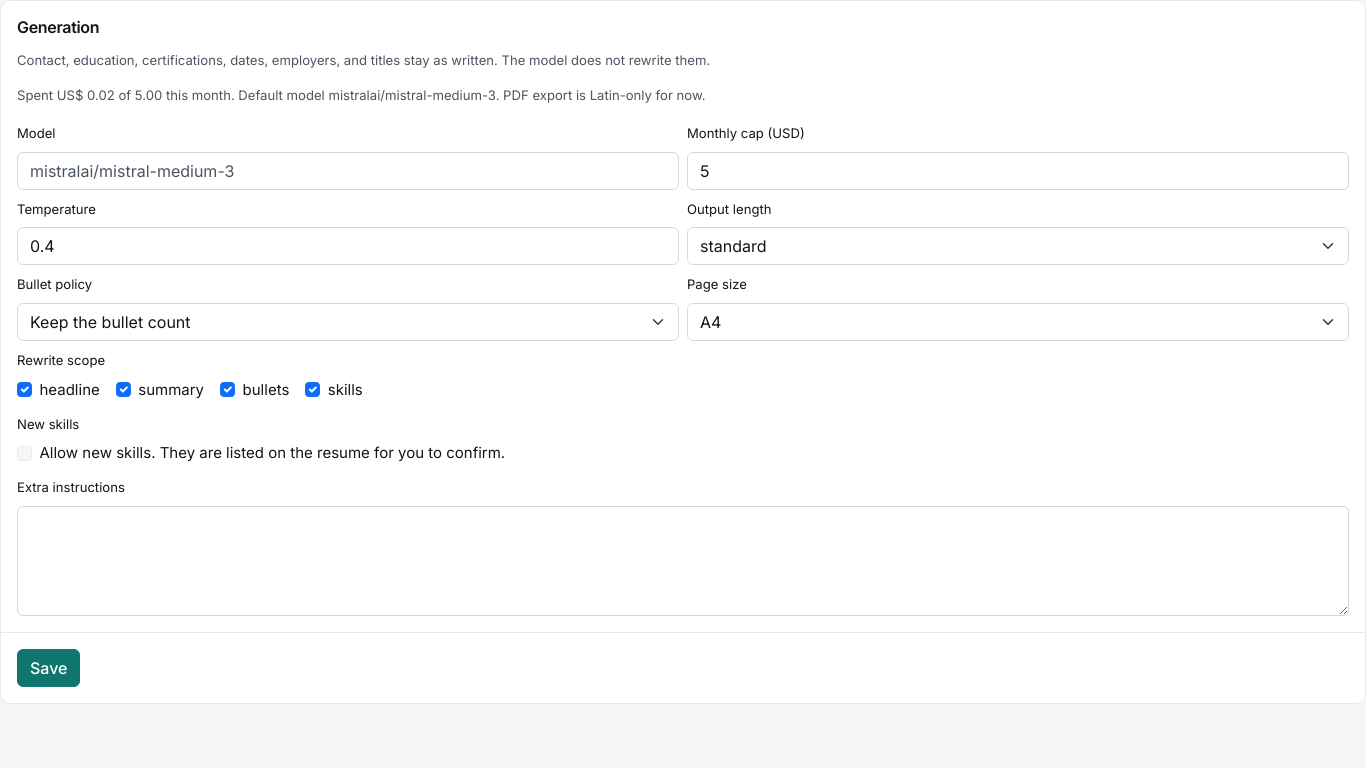
Test: Resume settings › asks for a rewrite scope before saving
Click the checkbox labelled "headline". click: [24, 390]
box: [17,382,32,398]
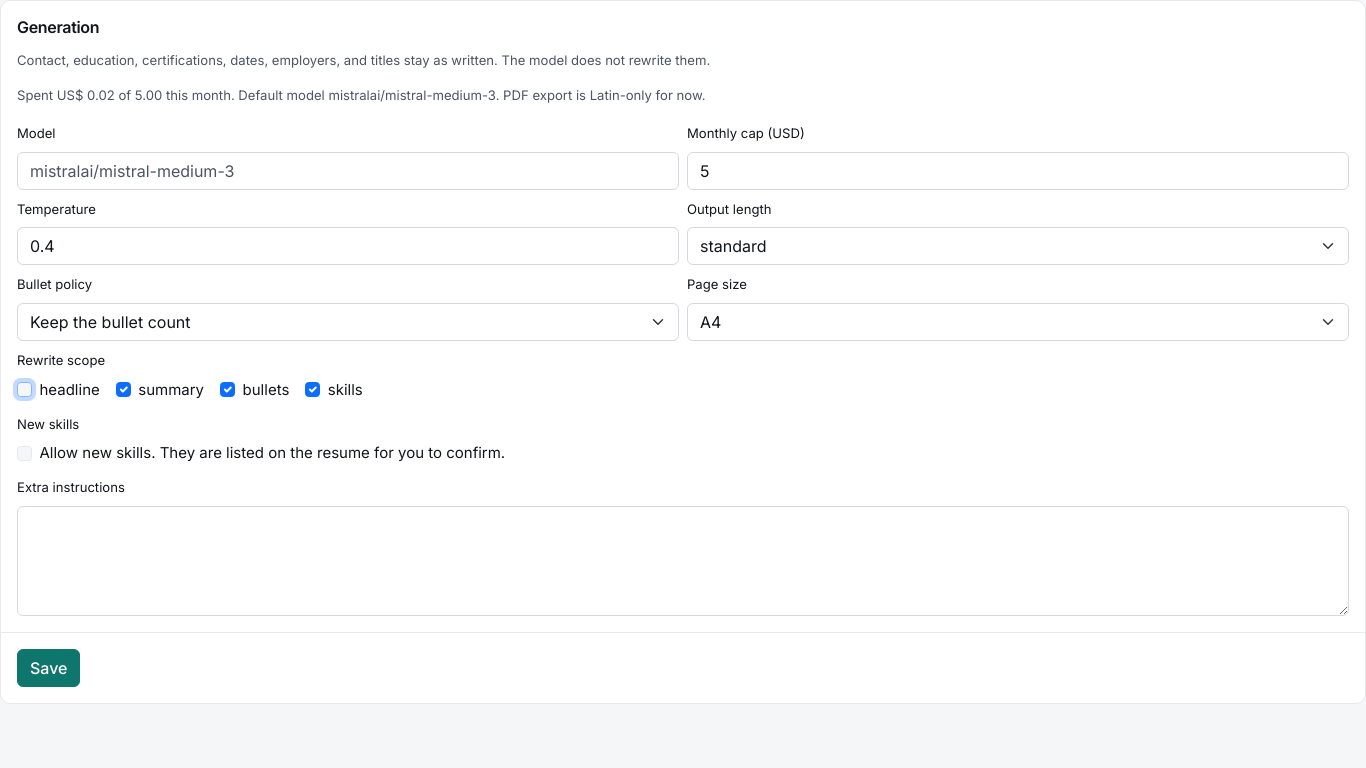
Click the checkbox labelled "summary". click: [123, 390]
box: [116,382,131,398]
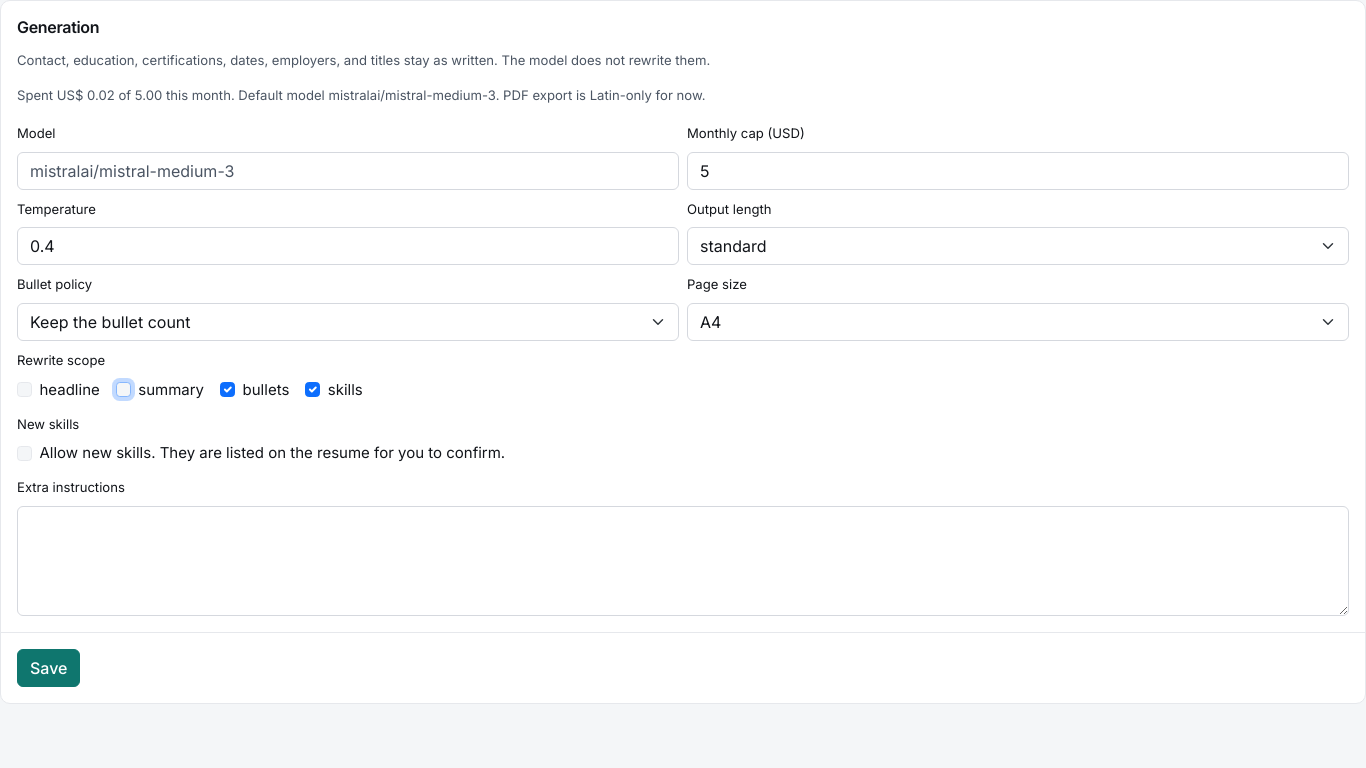
Click the checkbox labelled "bullets". click: [228, 390]
box: [220,382,235,398]
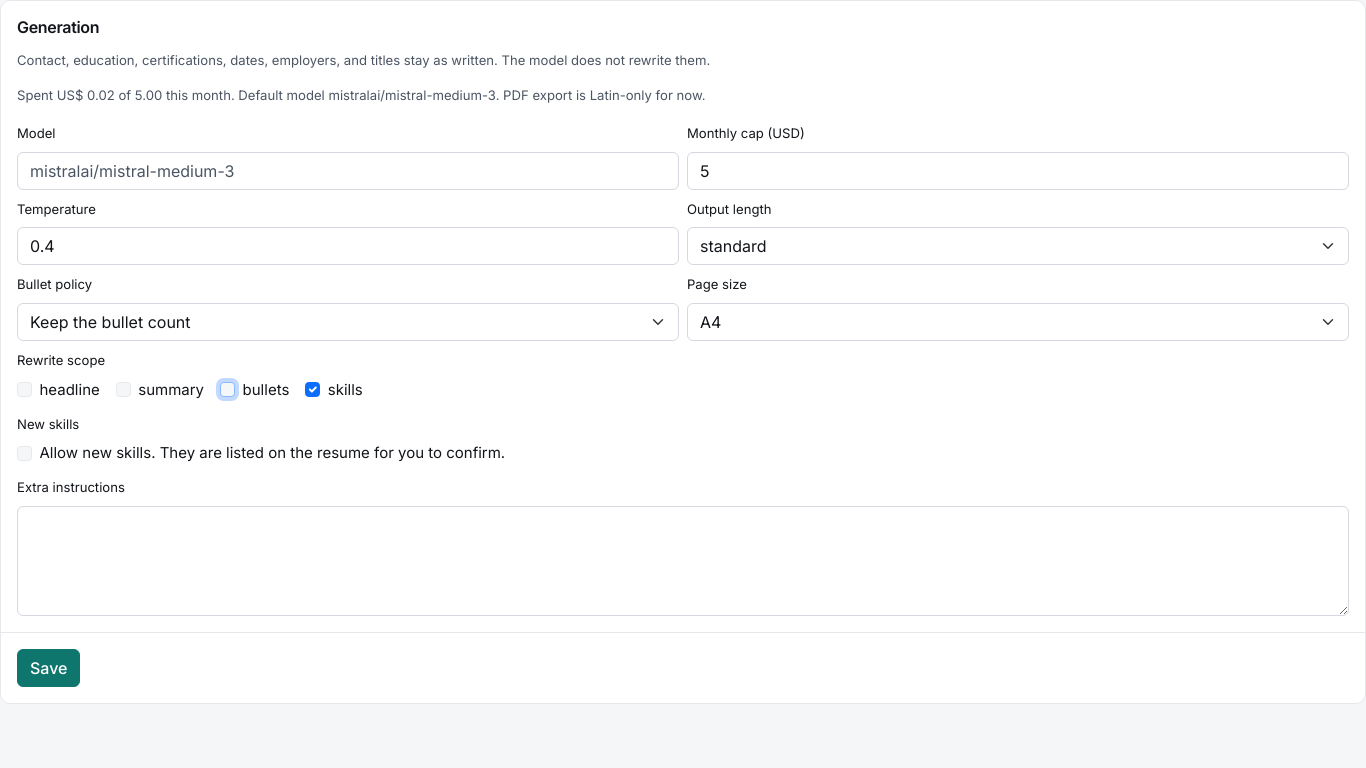
Click the checkbox labelled "skills". click: [313, 390]
box: [305,382,320,398]
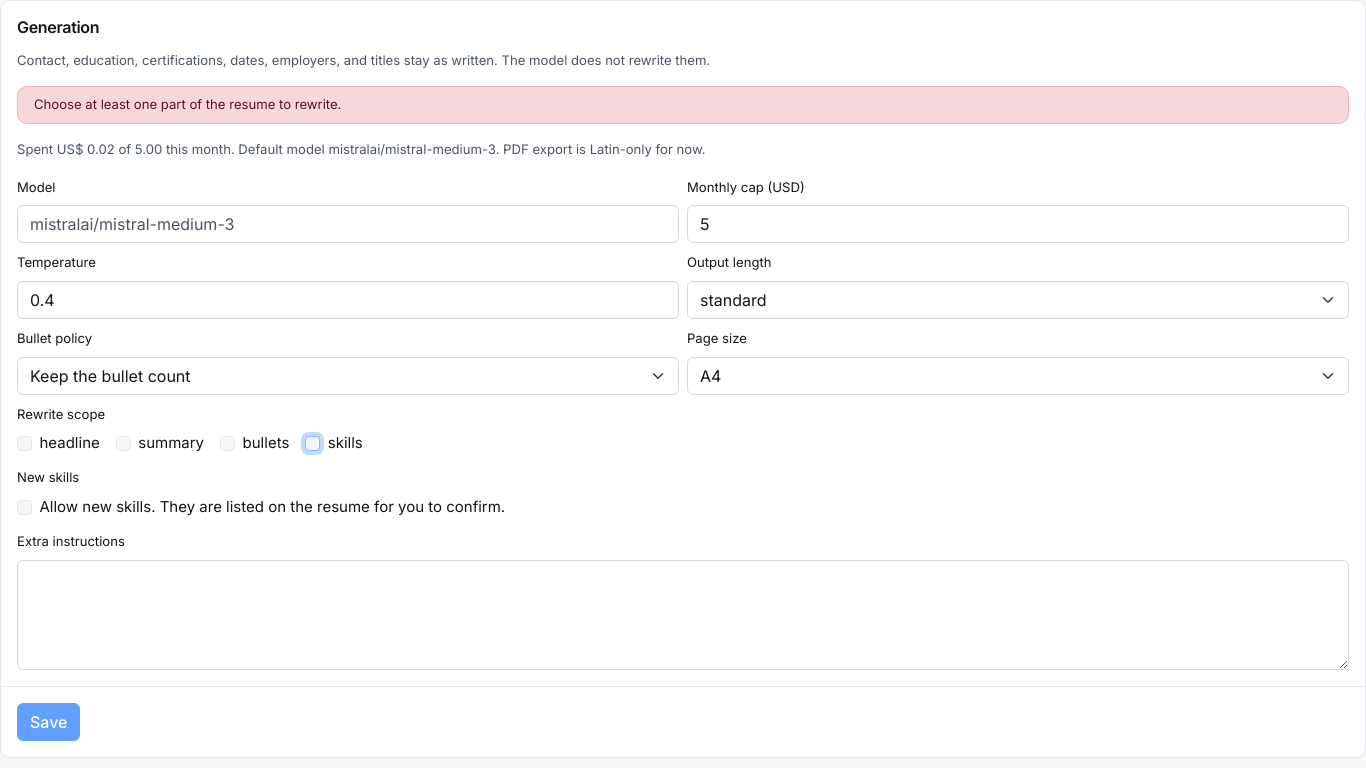
Result: the button "Save" is disabled at [17,703,80,741]
Result: the message shows "at least one part of the resume" at [34,96,341,112]
